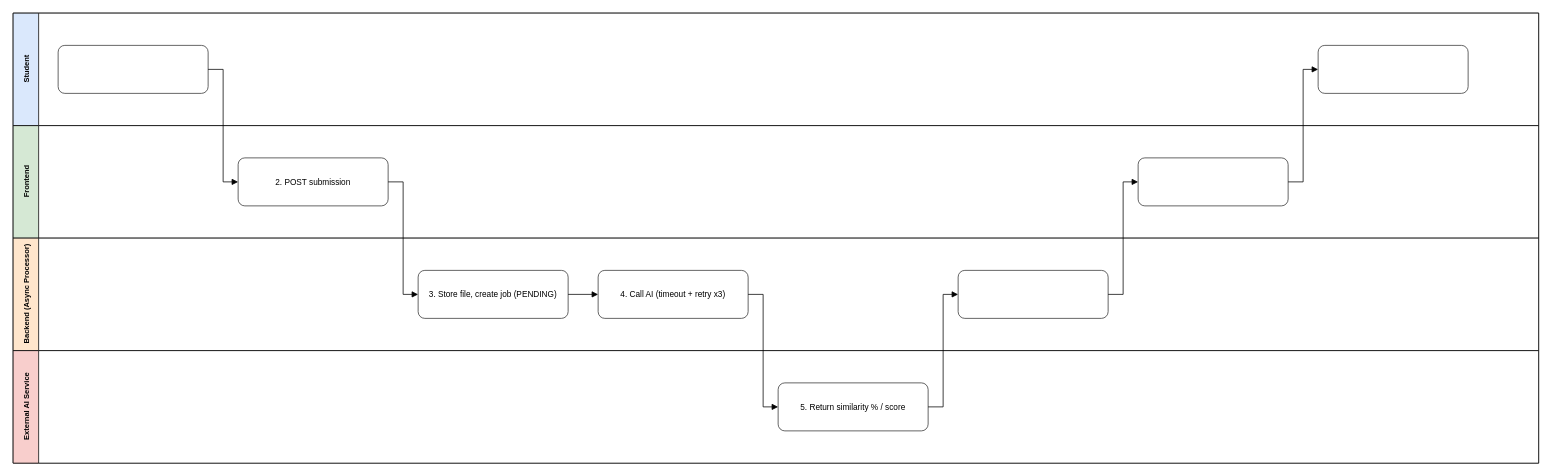
Image size: 1552x476. Some labels were removed from this diagram. Here are the shapes that lost their labels. From the top down, the centre of each, then its label:
At pixel 132 69: "1. Upload image / audio".
At pixel 1392 69: "8. View result".
At pixel 1212 181: "7. Poll job status".
At pixel 1032 294: "6. Update job status (DONE/FAILED + fallback)".
